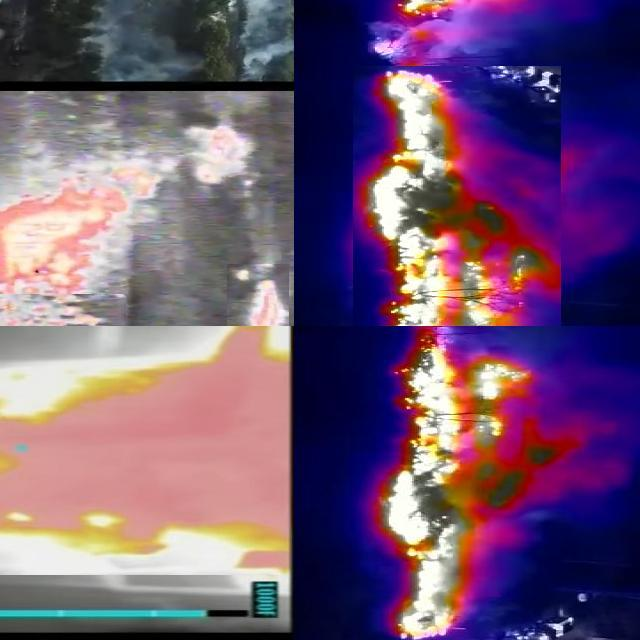fire: (1, 327, 291, 576), (381, 327, 559, 640), (353, 67, 561, 327), (1, 125, 254, 299), (371, 1, 527, 61), (226, 265, 288, 327)
